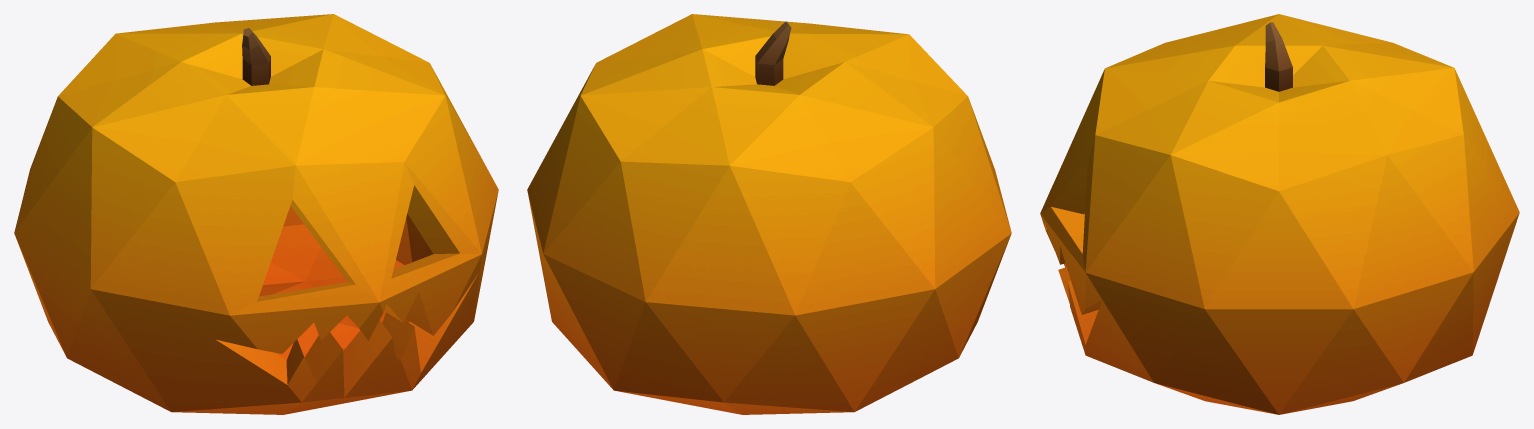
The model's file is pumpkin.fbx.
The picture shows the model from 3 angles, left to right: view 1: azimuth 30°, elevation 25°; view 2: azimuth 150°, elevation 25°; view 3: azimuth 270°, elevation 25°; orthographic projection. The views are drawn at different scales.
Visible parts, largest first — view 1: Icosphere, Icosphere.001; view 2: Icosphere, Icosphere.001; view 3: Icosphere, Icosphere.001.
Boxes of the visible parts, x1,y1,x2,y2 form: Icosphere: (14, 14, 498, 414); Icosphere.001: (242, 28, 270, 85); Icosphere: (527, 14, 1011, 414); Icosphere.001: (755, 21, 791, 85); Icosphere: (1040, 14, 1519, 414); Icosphere.001: (1265, 22, 1292, 91).
Bounding box in the file's own units: 200 × 159 × 210.
2 materials, 2 textured.
